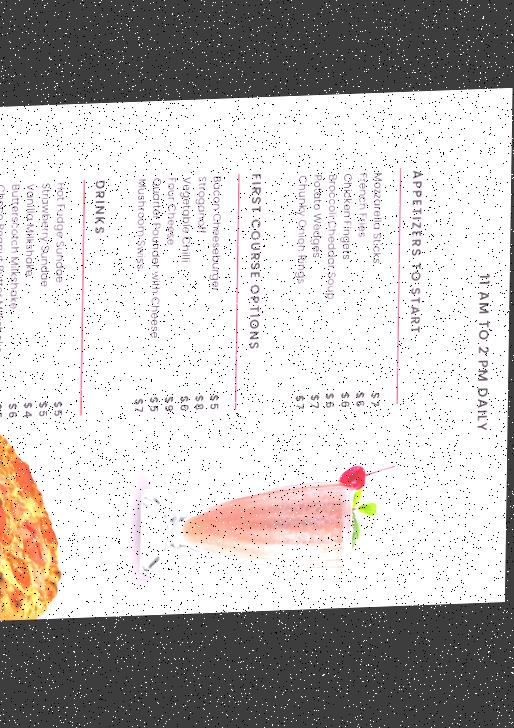Menu-Items: (178, 174, 195, 418), (309, 175, 325, 420), (193, 175, 209, 420), (133, 176, 149, 421), (293, 176, 309, 419), (163, 177, 179, 417), (324, 175, 339, 421), (369, 170, 384, 414), (339, 173, 354, 417), (148, 177, 163, 418), (354, 173, 369, 413), (210, 176, 222, 416)
